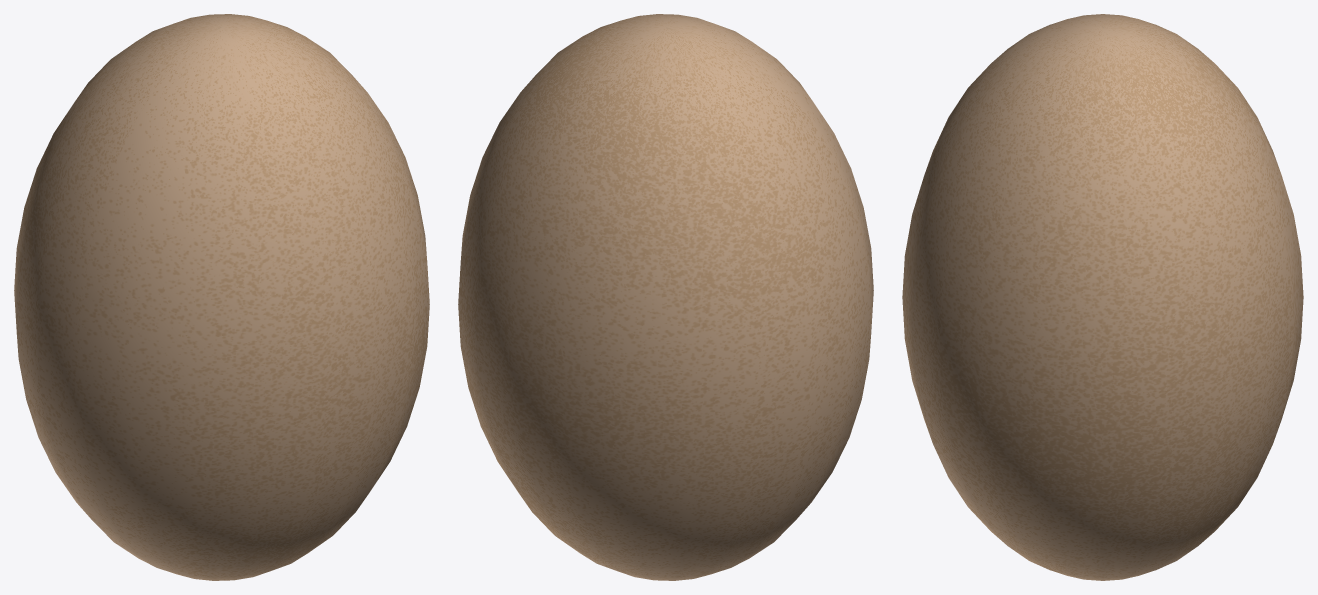
File: EGG.fbx
The picture shows the model from 3 angles, left to right: view 1: azimuth 30°, elevation 25°; view 2: azimuth 150°, elevation 25°; view 3: azimuth 270°, elevation 25°; orthographic projection.
Parts seen in each view (by area): view 1: pSphere1; view 2: pSphere1; view 3: pSphere1.
Boxes of the visible parts, <box> form: pSphere1: <box>14,14,429,580</box>; pSphere1: <box>458,14,873,580</box>; pSphere1: <box>902,14,1303,580</box>.
Size of the model in its own units: 2.17 by 3.04 by 2.06.
